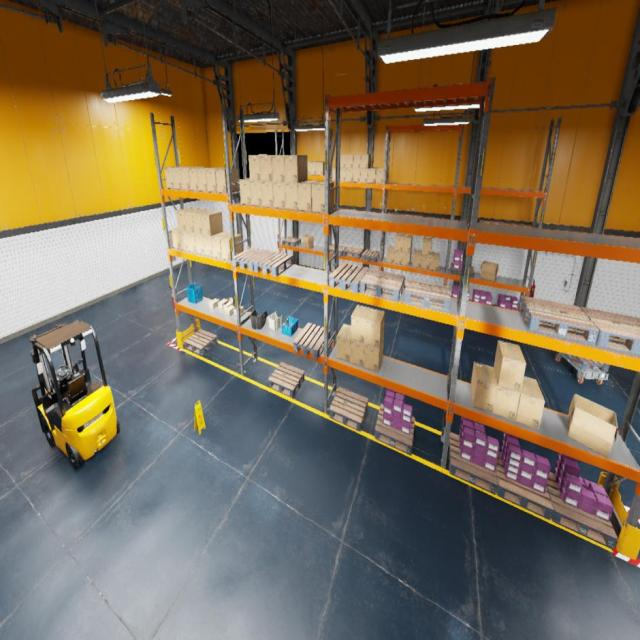box: (568, 393, 617, 458), (494, 341, 526, 392), (515, 376, 545, 429), (470, 362, 497, 413), (494, 368, 520, 420), (365, 308, 385, 348), (350, 304, 370, 343), (364, 336, 384, 372), (312, 182, 334, 213), (298, 180, 320, 211), (284, 154, 308, 182), (215, 168, 239, 194), (200, 210, 223, 236), (220, 233, 242, 260), (336, 323, 351, 362), (211, 232, 230, 259), (184, 208, 204, 233), (188, 168, 210, 190), (172, 167, 194, 189), (192, 210, 212, 234), (206, 167, 225, 192), (177, 208, 196, 232), (164, 166, 182, 188), (197, 168, 213, 192), (350, 340, 364, 367), (180, 167, 196, 190), (285, 182, 298, 210), (480, 261, 498, 281), (261, 181, 274, 208), (248, 155, 261, 181), (272, 154, 284, 182), (273, 182, 285, 209), (260, 155, 272, 182), (240, 178, 251, 205), (251, 180, 262, 206), (202, 235, 212, 257), (194, 233, 204, 254), (171, 228, 180, 250), (187, 232, 196, 252), (302, 234, 314, 249), (422, 237, 432, 255), (179, 231, 188, 250), (430, 252, 439, 271), (402, 235, 412, 252), (413, 250, 422, 268), (402, 249, 411, 266), (395, 234, 404, 251), (386, 246, 394, 264), (361, 154, 371, 168), (421, 255, 430, 269), (223, 298, 233, 310), (376, 168, 384, 183), (360, 168, 368, 183), (394, 250, 402, 264), (368, 168, 376, 182), (225, 305, 235, 316), (353, 155, 361, 168), (353, 168, 360, 182), (317, 162, 324, 175), (346, 155, 353, 168), (346, 169, 353, 182), (234, 306, 244, 315), (209, 299, 219, 308), (310, 161, 316, 175), (307, 162, 314, 174), (340, 168, 346, 182), (219, 299, 228, 308), (340, 155, 346, 168), (332, 168, 336, 181)
forklift: (29, 321, 120, 469)
pallets: (546, 472, 618, 550), (496, 452, 554, 520), (519, 296, 599, 345), (448, 432, 498, 494), (580, 307, 639, 355), (374, 404, 414, 456), (329, 386, 368, 432), (404, 279, 451, 313), (360, 268, 405, 302), (293, 324, 331, 359), (268, 362, 304, 398), (329, 262, 369, 294), (254, 251, 293, 277), (562, 352, 610, 372), (232, 247, 271, 271), (184, 329, 217, 355), (450, 263, 474, 278), (344, 246, 363, 259), (362, 249, 379, 263), (329, 244, 346, 256), (504, 222, 534, 228), (282, 237, 301, 246), (479, 220, 506, 225)
